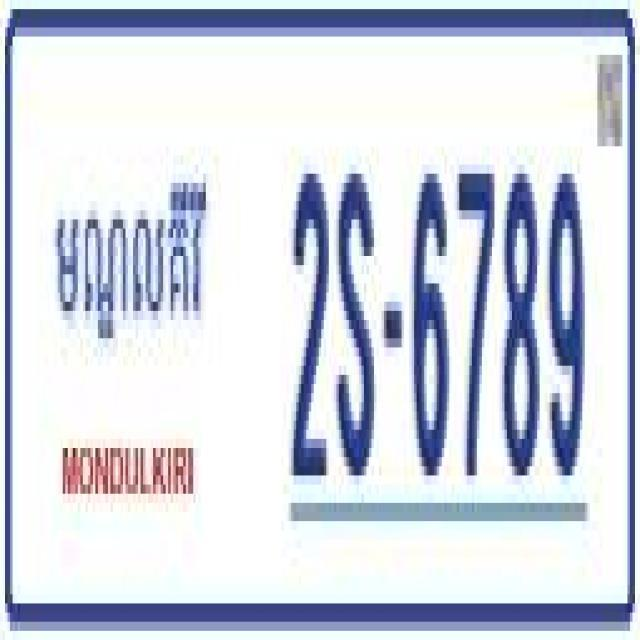Mondul_Kiri: (48, 165, 209, 363)
